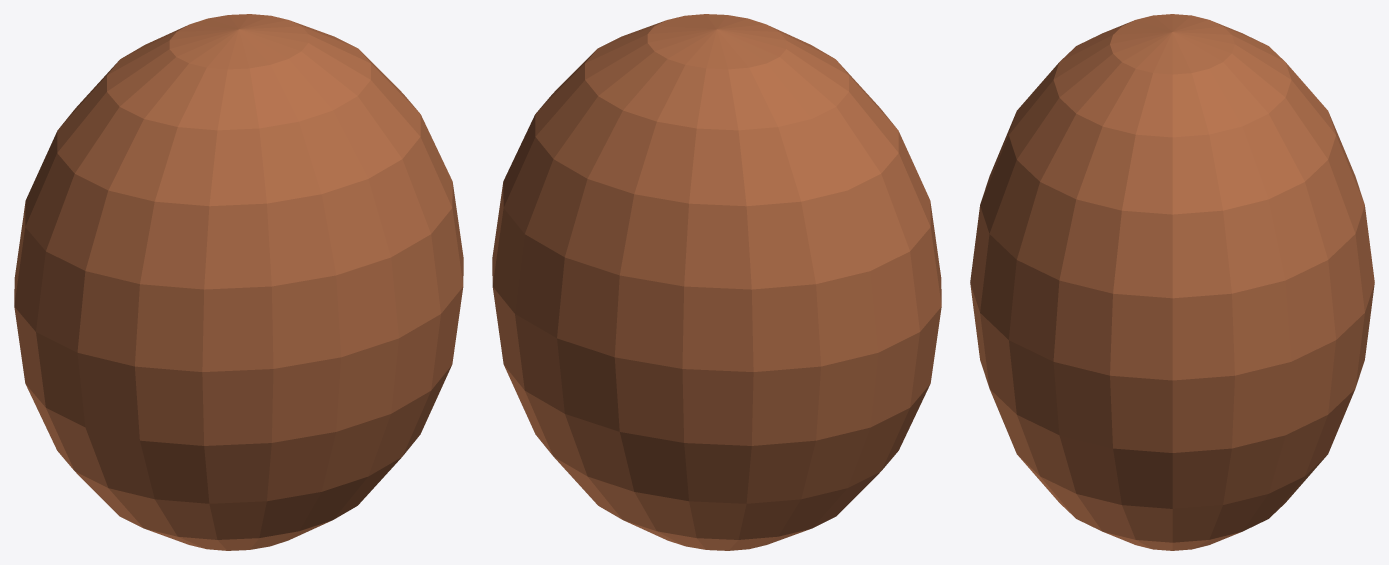
The model's file is Guard_Head.obj.
3 renders of one model, left to right at view 1: azimuth 30°, elevation 25°; view 2: azimuth 150°, elevation 25°; view 3: azimuth 270°, elevation 25°, orthographic.
Parts seen in each view (by area): view 1: Guard_Head; view 2: Guard_Head; view 3: Guard_Head.
Boxes of the visible parts, x1,y1,x2,y2 form: Guard_Head: [14, 14, 463, 550]; Guard_Head: [492, 14, 941, 550]; Guard_Head: [970, 14, 1374, 550].
Bounding box in the file's own units: 0.47 × 0.56 × 0.41.
